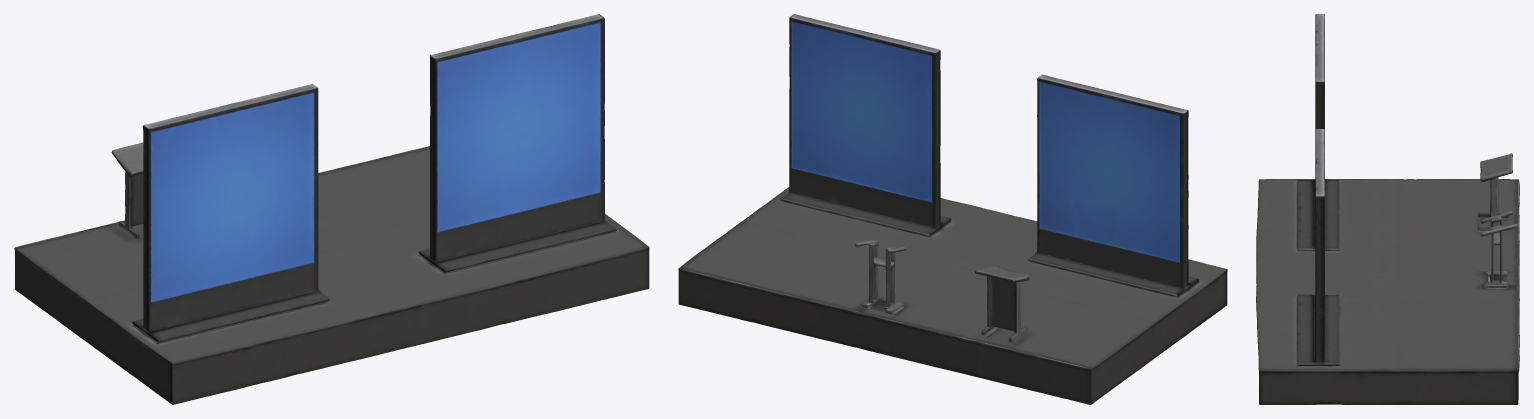
File: stage.glb
The picture shows the model from 3 angles, left to right: view 1: azimuth 30°, elevation 25°; view 2: azimuth 150°, elevation 25°; view 3: azimuth 270°, elevation 25°; orthographic projection. The views are drawn at different scales.
Visible parts, largest first — view 1: tripo_node_7c287eae-cf2f-4931-9220-4e15b9ccf268; view 2: tripo_node_7c287eae-cf2f-4931-9220-4e15b9ccf268; view 3: tripo_node_7c287eae-cf2f-4931-9220-4e15b9ccf268.
Boxes of the visible parts, x1,y1,x2,y2 form: tripo_node_7c287eae-cf2f-4931-9220-4e15b9ccf268: (14,14,649,404); tripo_node_7c287eae-cf2f-4931-9220-4e15b9ccf268: (678,14,1227,404); tripo_node_7c287eae-cf2f-4931-9220-4e15b9ccf268: (1256,14,1519,404).
Size of the model in its own units: 1 by 0.4959 by 0.5803.
1 material, 1 textured.
